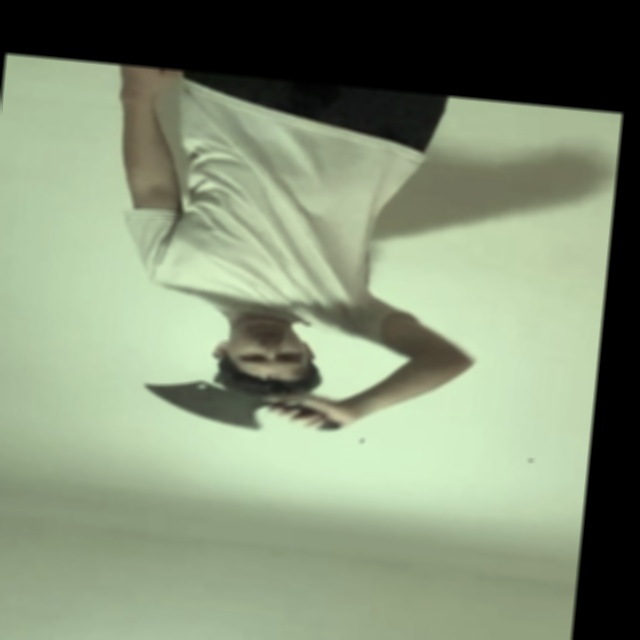Sharp-Object: (139, 375, 269, 434)
